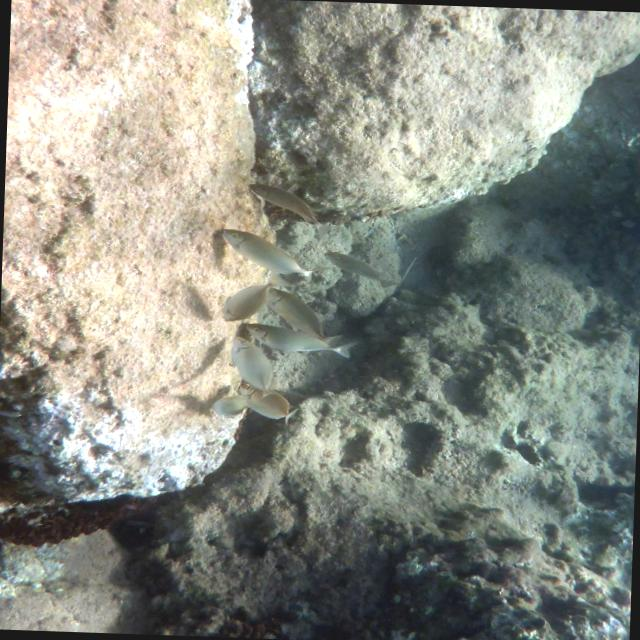Sokar Baligi: (208, 222, 320, 282), (217, 332, 294, 402)
